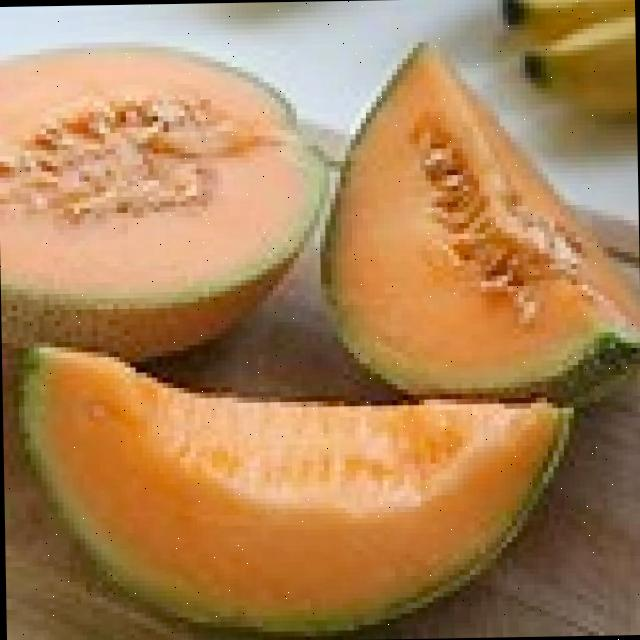Hami Melon: (24, 336, 580, 632), (318, 37, 640, 402), (0, 43, 323, 359)
